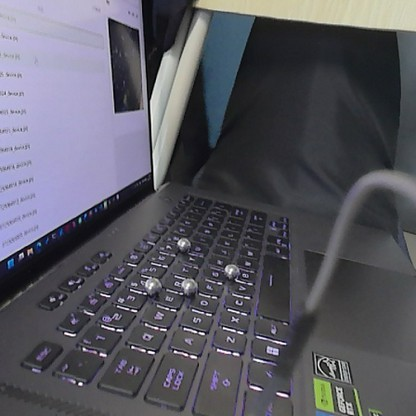ironball: (177, 276, 199, 299), (142, 273, 163, 297), (220, 261, 238, 280), (173, 237, 192, 253)
